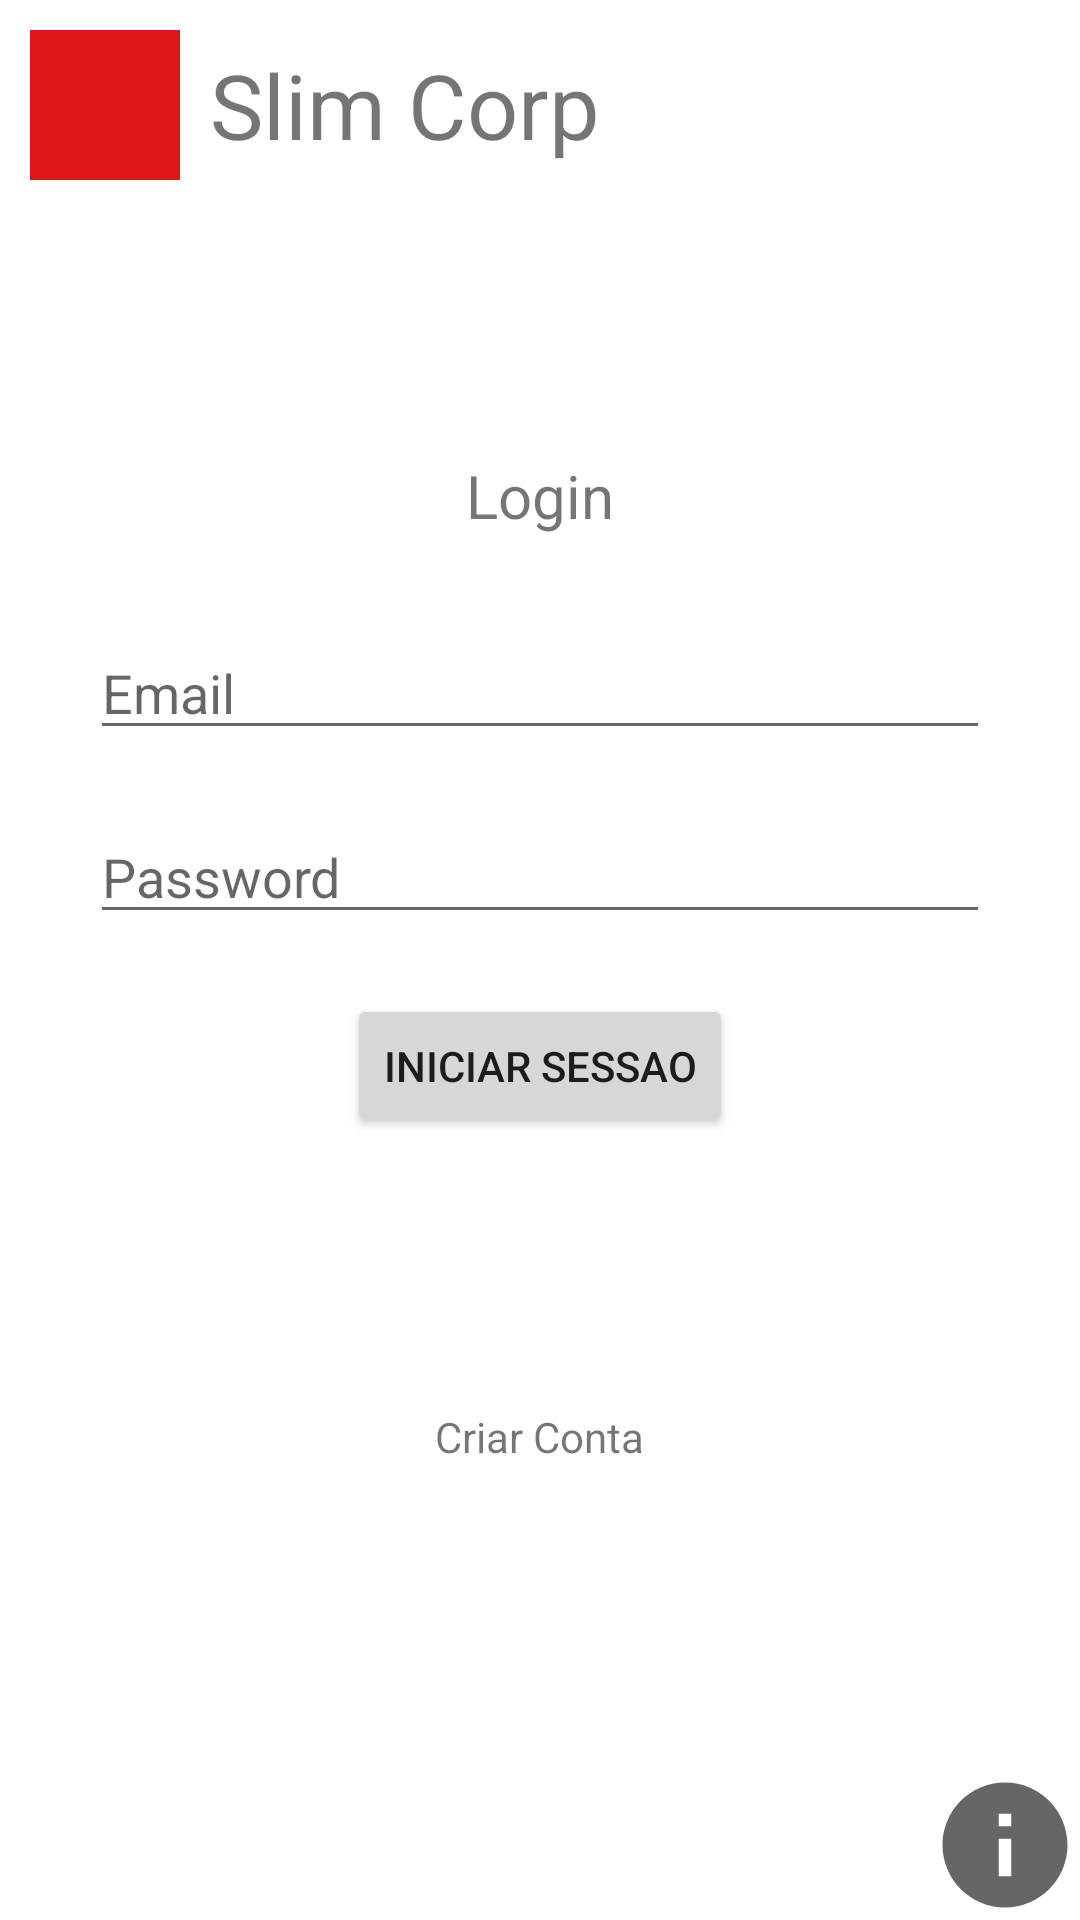

Icons on this 1080*1920 Android screen, each with the point to tap as (x,y):
info: (1005,1845)
